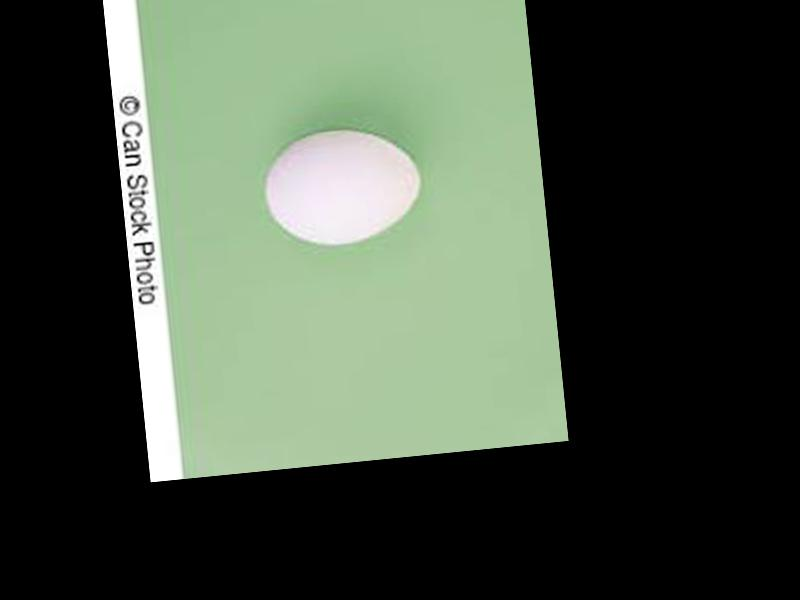Eggs: (261, 123, 424, 249)
